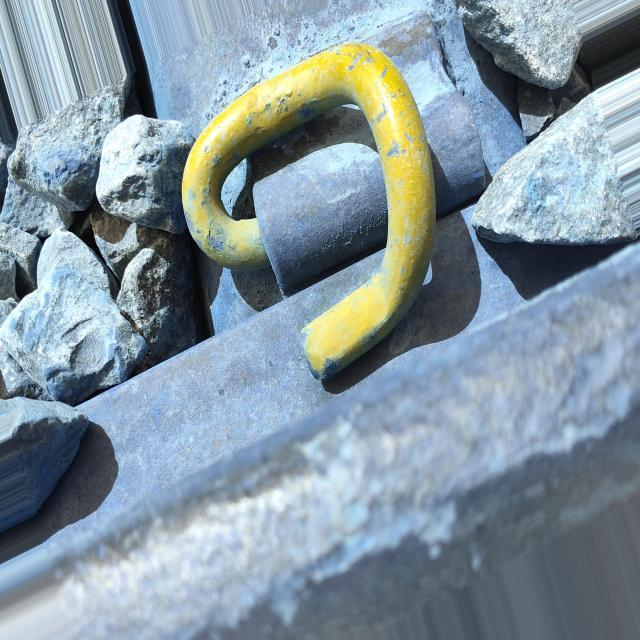Good Fasteners: (182, 20, 489, 379)
